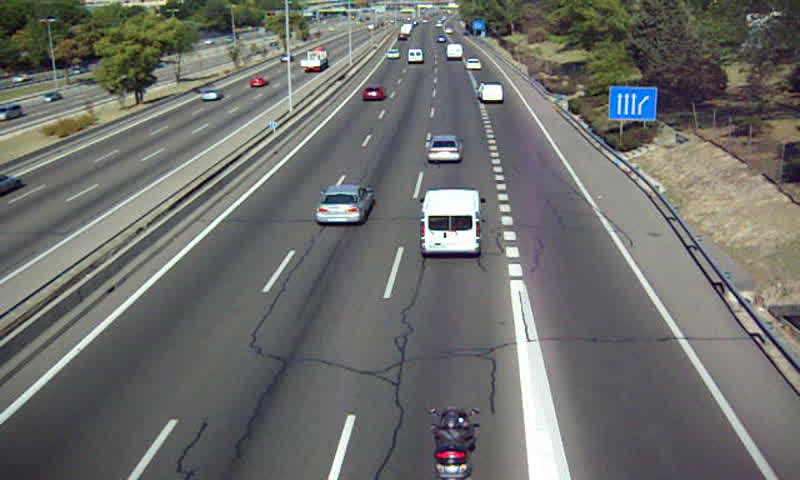car: (316, 185, 374, 223), (426, 135, 463, 164), (362, 85, 386, 100), (465, 57, 482, 71)
motorcycle: (434, 405, 473, 480)
van: (421, 189, 484, 255), (478, 81, 503, 103), (406, 47, 424, 64)
